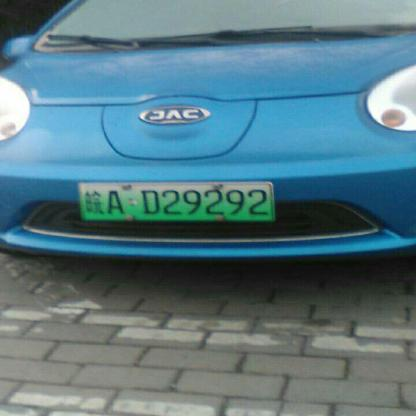lp: (80, 184, 273, 219)
